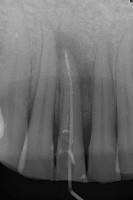Furcation Involvement: (54, 31, 95, 103)
